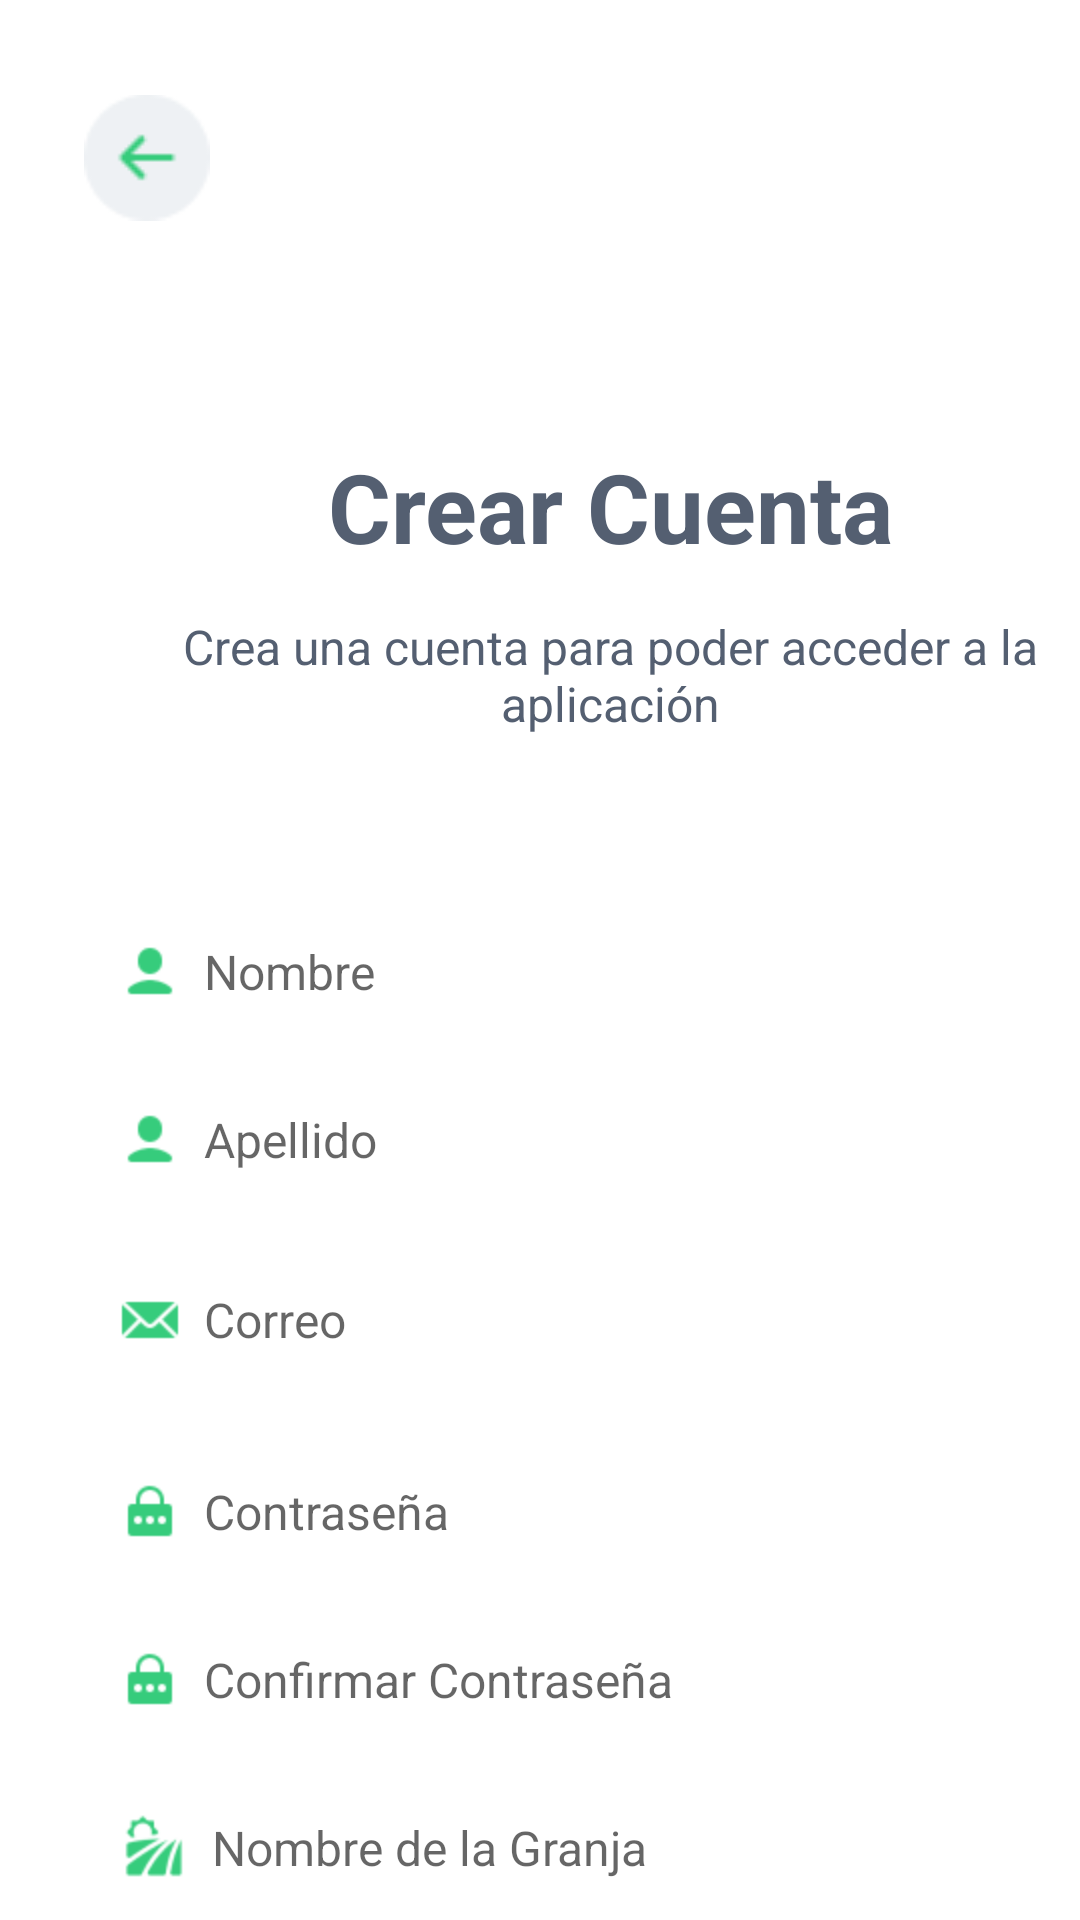

Where to tap for icons on this 1080 x 1920 app screen, as point (x, y):
Regresar: point (147, 158)
